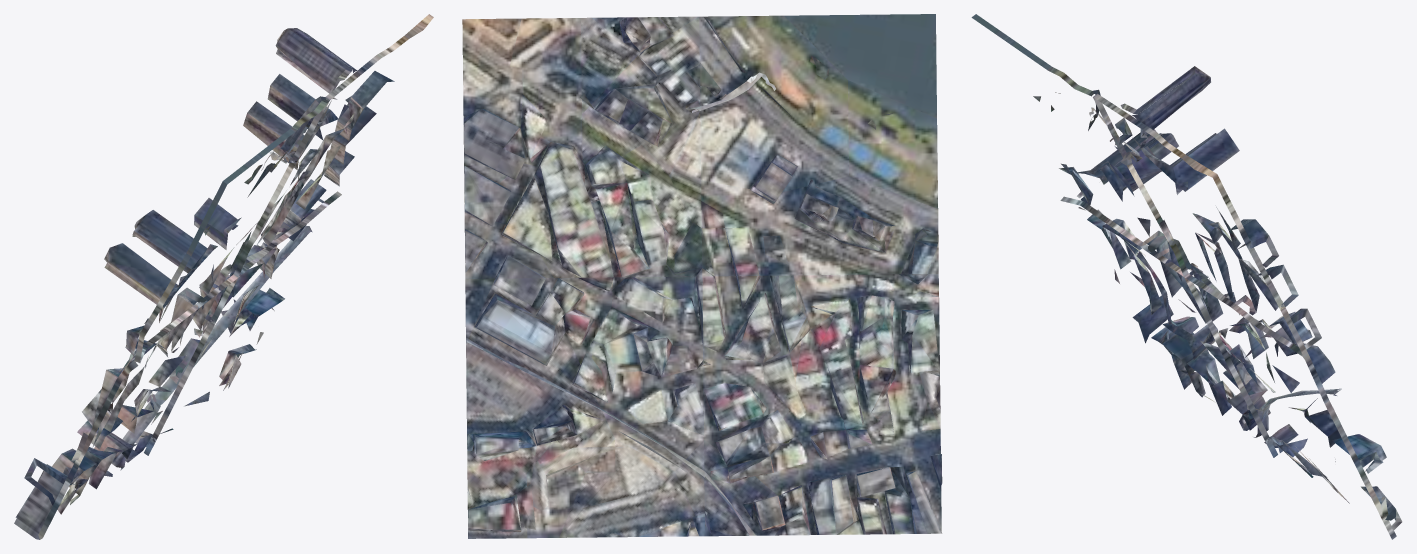
3 views of the same model, side by side, from view 1: azimuth 30°, elevation 25°; view 2: azimuth 150°, elevation 25°; view 3: azimuth 270°, elevation 25° (orthographic). The views are drawn at different scales.
Size of the model in its own units: 629 by 601 by 527.
2 materials, 2 textured.
